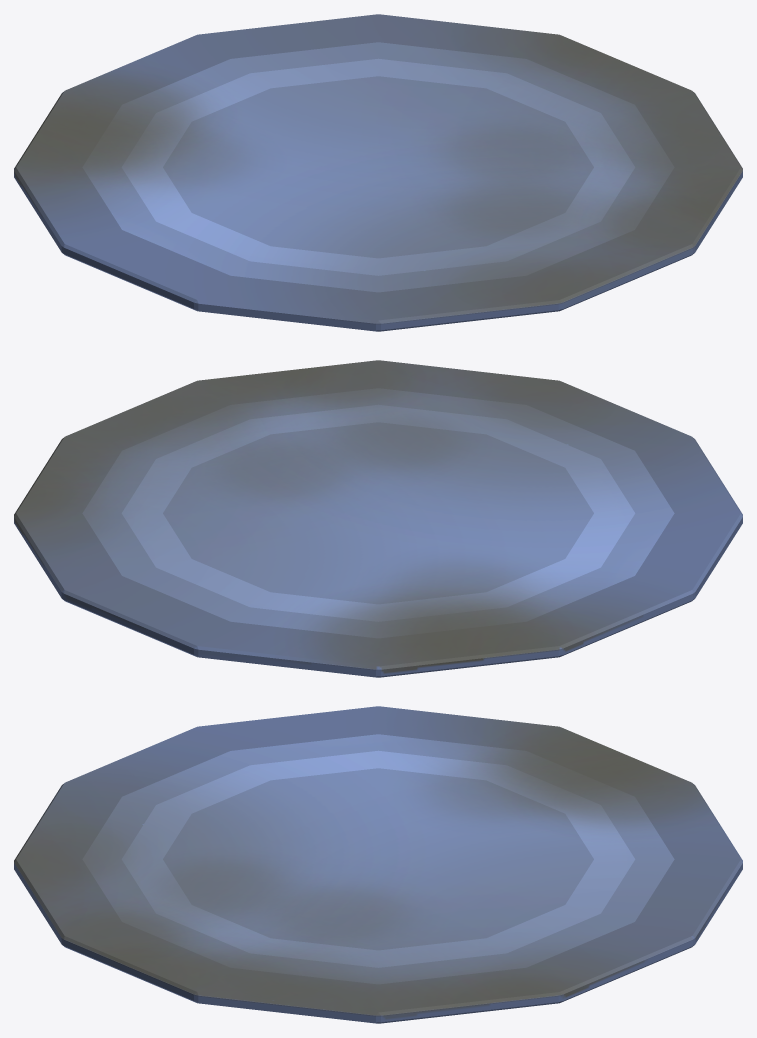
Rendered from Carpet1.fbx.
The picture shows the model from 3 angles, top to bottom: view 1: azimuth 30°, elevation 25°; view 2: azimuth 150°, elevation 25°; view 3: azimuth 270°, elevation 25°; orthographic projection.
Visible parts, largest first — view 1: Circle; view 2: Circle; view 3: Circle.
Boxes of the visible parts, left/top/right/bottom form: Circle: left=14, top=14, right=742, bottom=331; Circle: left=14, top=360, right=742, bottom=677; Circle: left=14, top=706, right=742, bottom=1023.
Bounding box in the file's own units: 200 × 3.42 × 200.
Materials: 1 (1 with a texture image).
